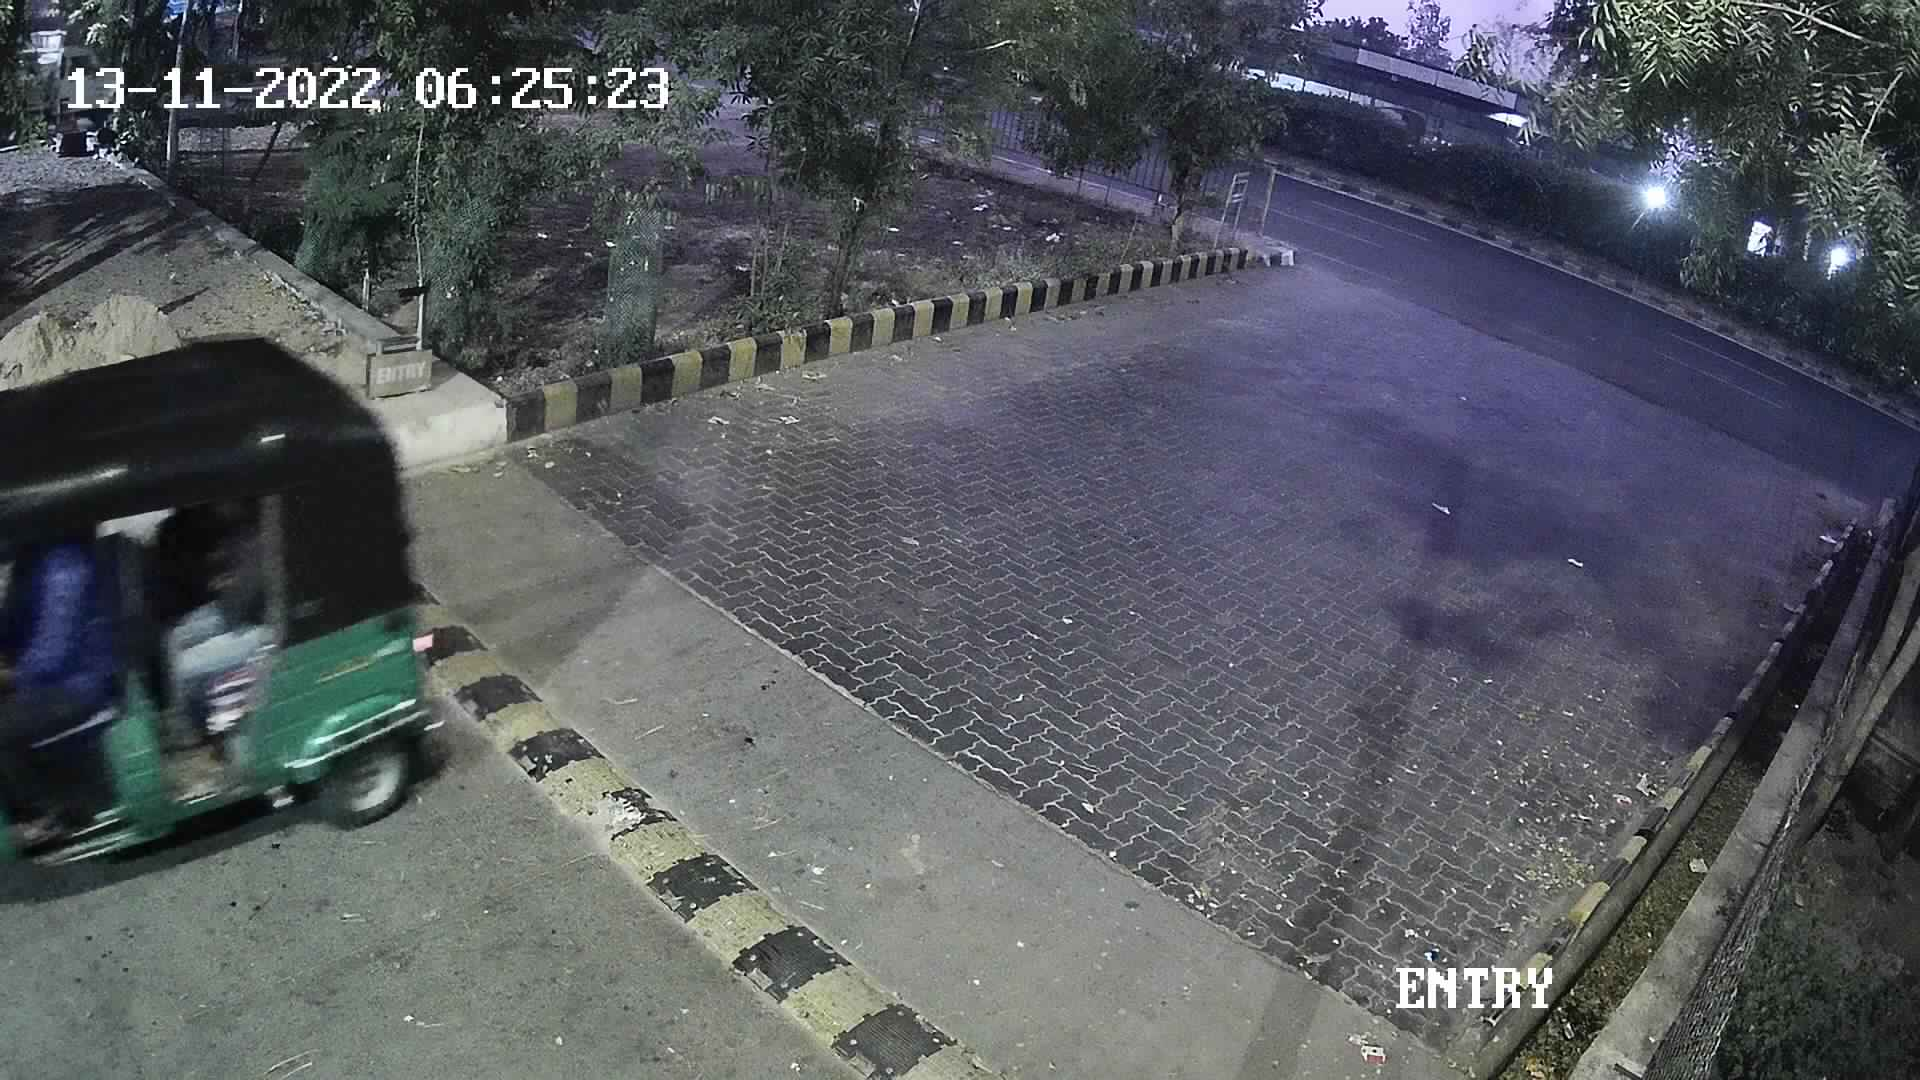Auto: (0, 314, 480, 910)
